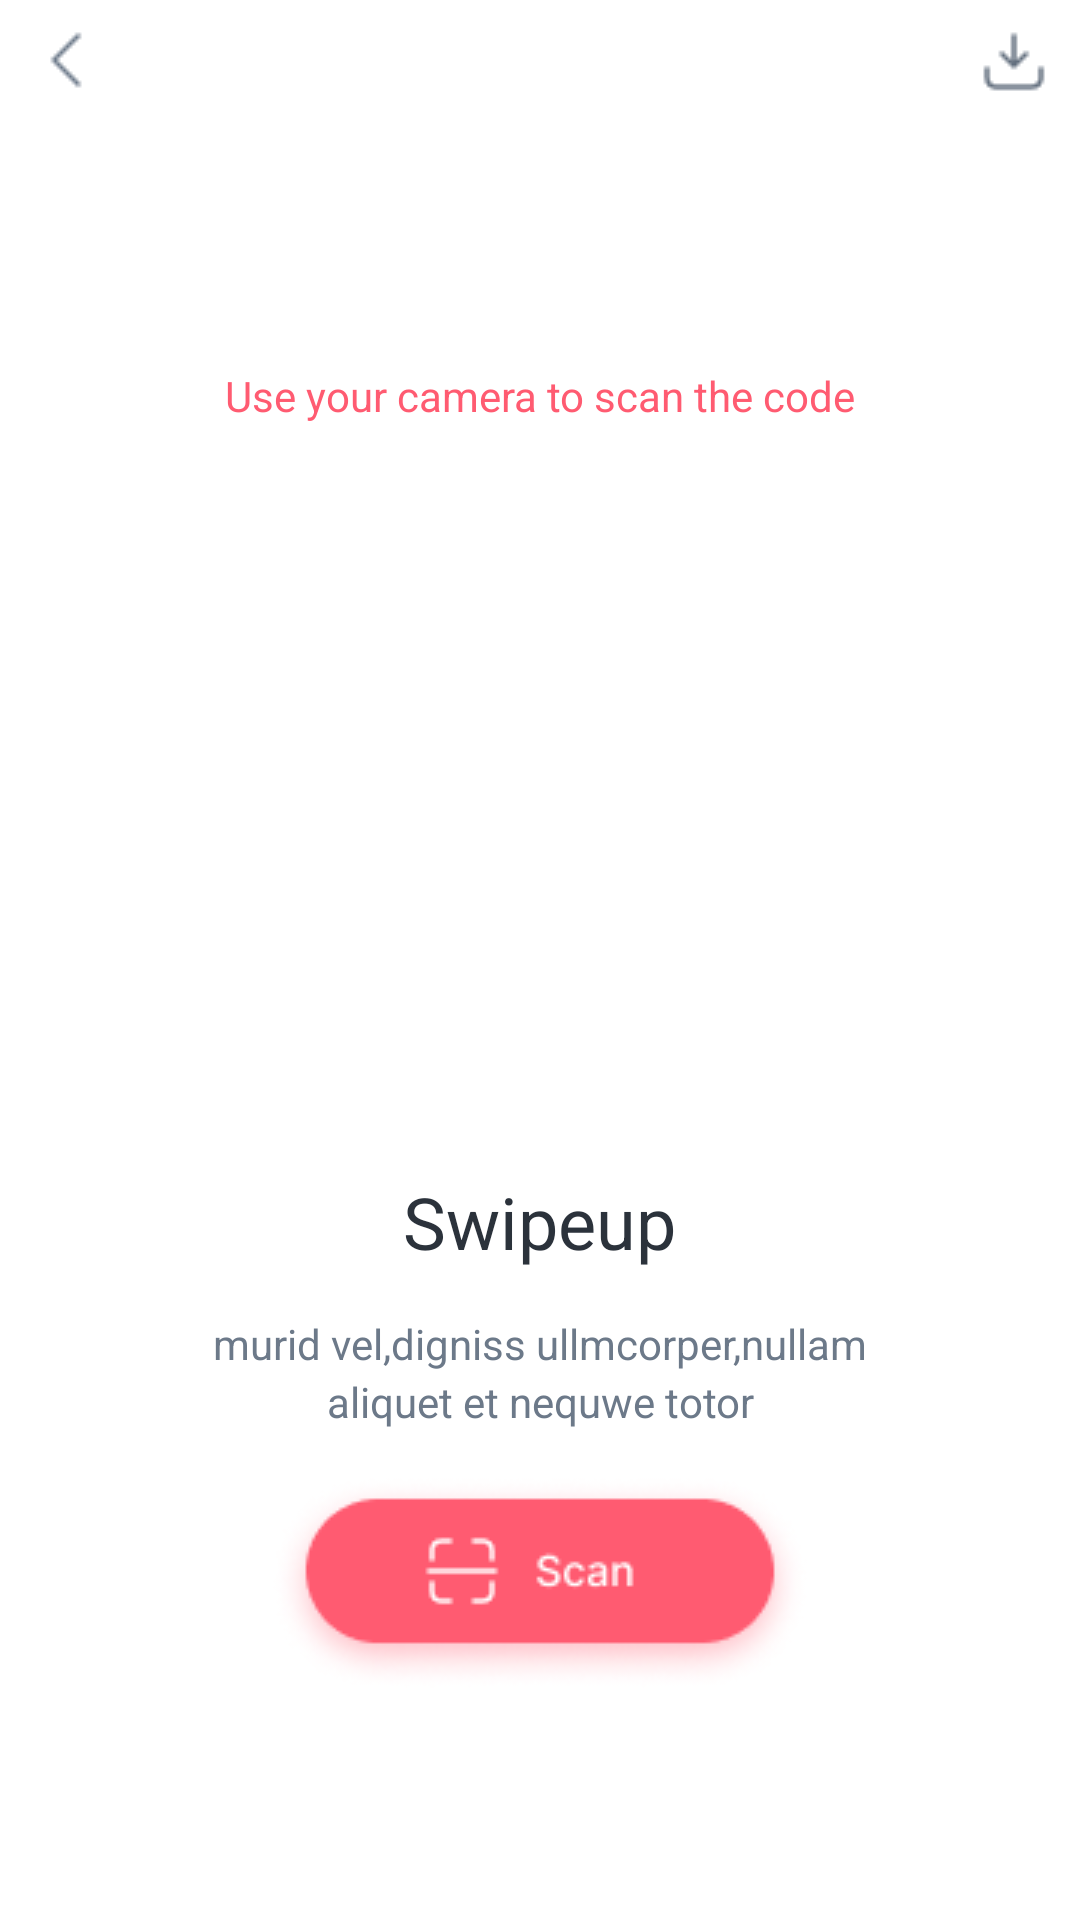

Locate icon controls on the screen. Image size 1080w x 1920h, boxes as (x1=x1, y1=y1, x2=x2, y2=y2).
chevron leff: (x1=50, y1=33, x2=82, y2=87)
importd: (x1=983, y1=33, x2=1045, y2=91)
